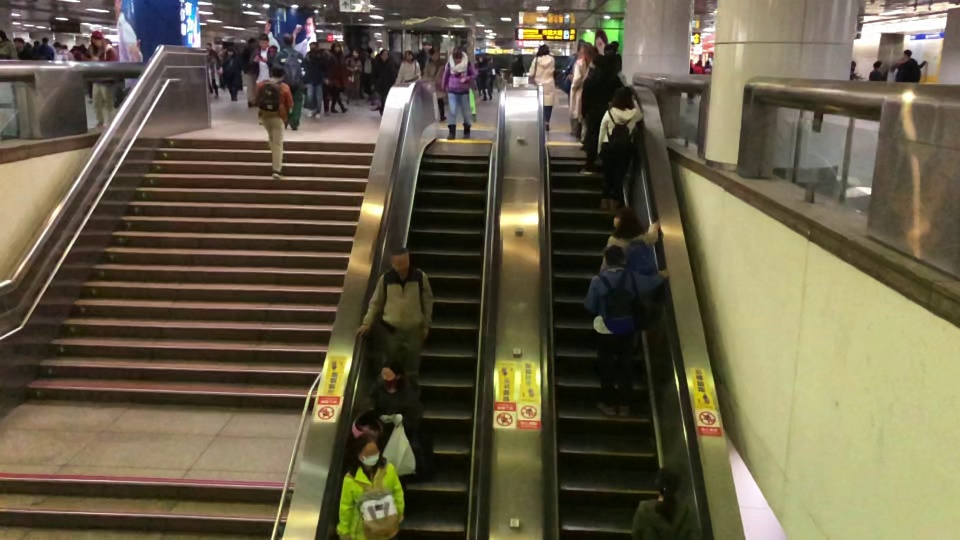person_head: (352, 431, 380, 467), (380, 356, 406, 393), (653, 465, 682, 496), (612, 205, 639, 234), (608, 85, 635, 110), (602, 243, 626, 269), (389, 245, 410, 273), (270, 62, 286, 80), (90, 29, 105, 48), (592, 51, 606, 69), (428, 45, 441, 63), (281, 32, 295, 48), (452, 46, 463, 65), (257, 33, 269, 48), (537, 43, 550, 56), (580, 42, 593, 55), (421, 39, 432, 53), (330, 42, 341, 53), (379, 48, 389, 60), (309, 42, 319, 53), (873, 60, 883, 70), (903, 48, 912, 59), (226, 46, 235, 56), (404, 50, 413, 60), (351, 47, 359, 58)
person_vbox: (583, 242, 671, 415), (355, 245, 433, 395), (363, 356, 423, 494), (336, 431, 406, 540), (595, 85, 644, 209), (577, 53, 625, 173), (629, 464, 701, 540), (251, 64, 294, 178), (598, 207, 664, 278), (270, 31, 309, 130), (86, 29, 119, 130), (442, 45, 477, 140), (556, 38, 586, 136), (249, 34, 277, 125), (528, 44, 555, 131), (300, 42, 328, 119), (572, 40, 592, 139), (422, 47, 446, 120), (372, 48, 395, 119), (327, 41, 348, 114), (220, 45, 243, 101), (894, 48, 927, 83), (343, 47, 362, 106), (392, 50, 420, 85), (868, 58, 885, 82)
